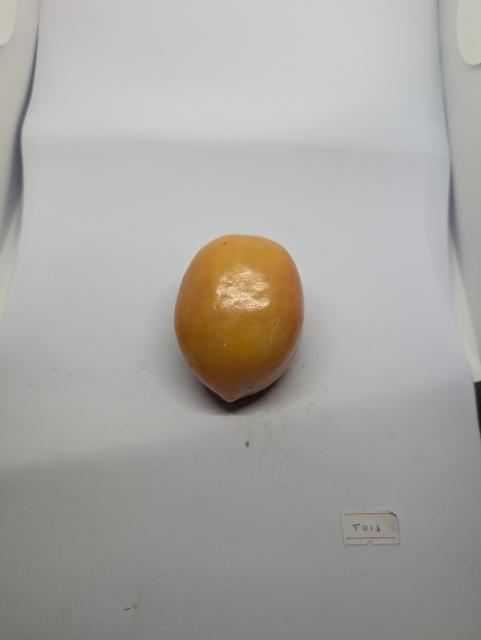turning: (168, 219, 315, 410)
